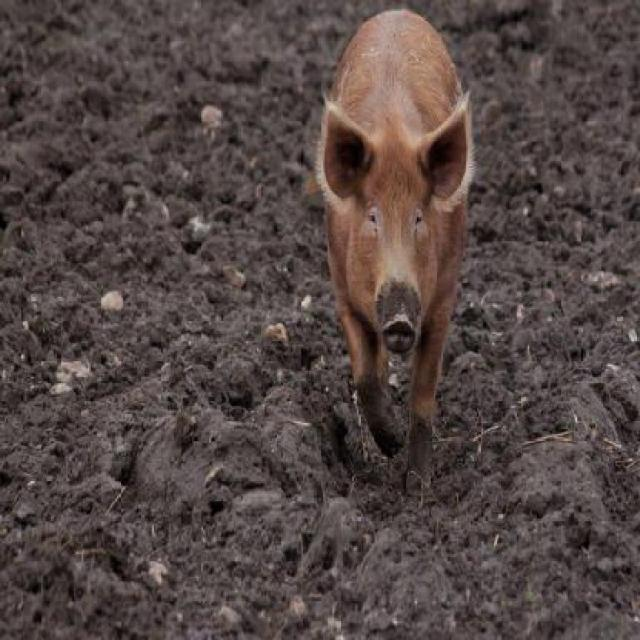Boar: (304, 9, 473, 498)
